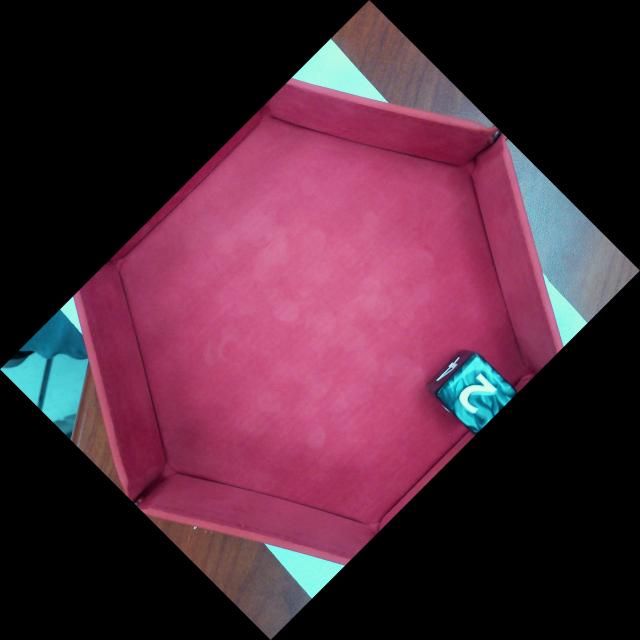dice: (435, 350, 518, 434)
